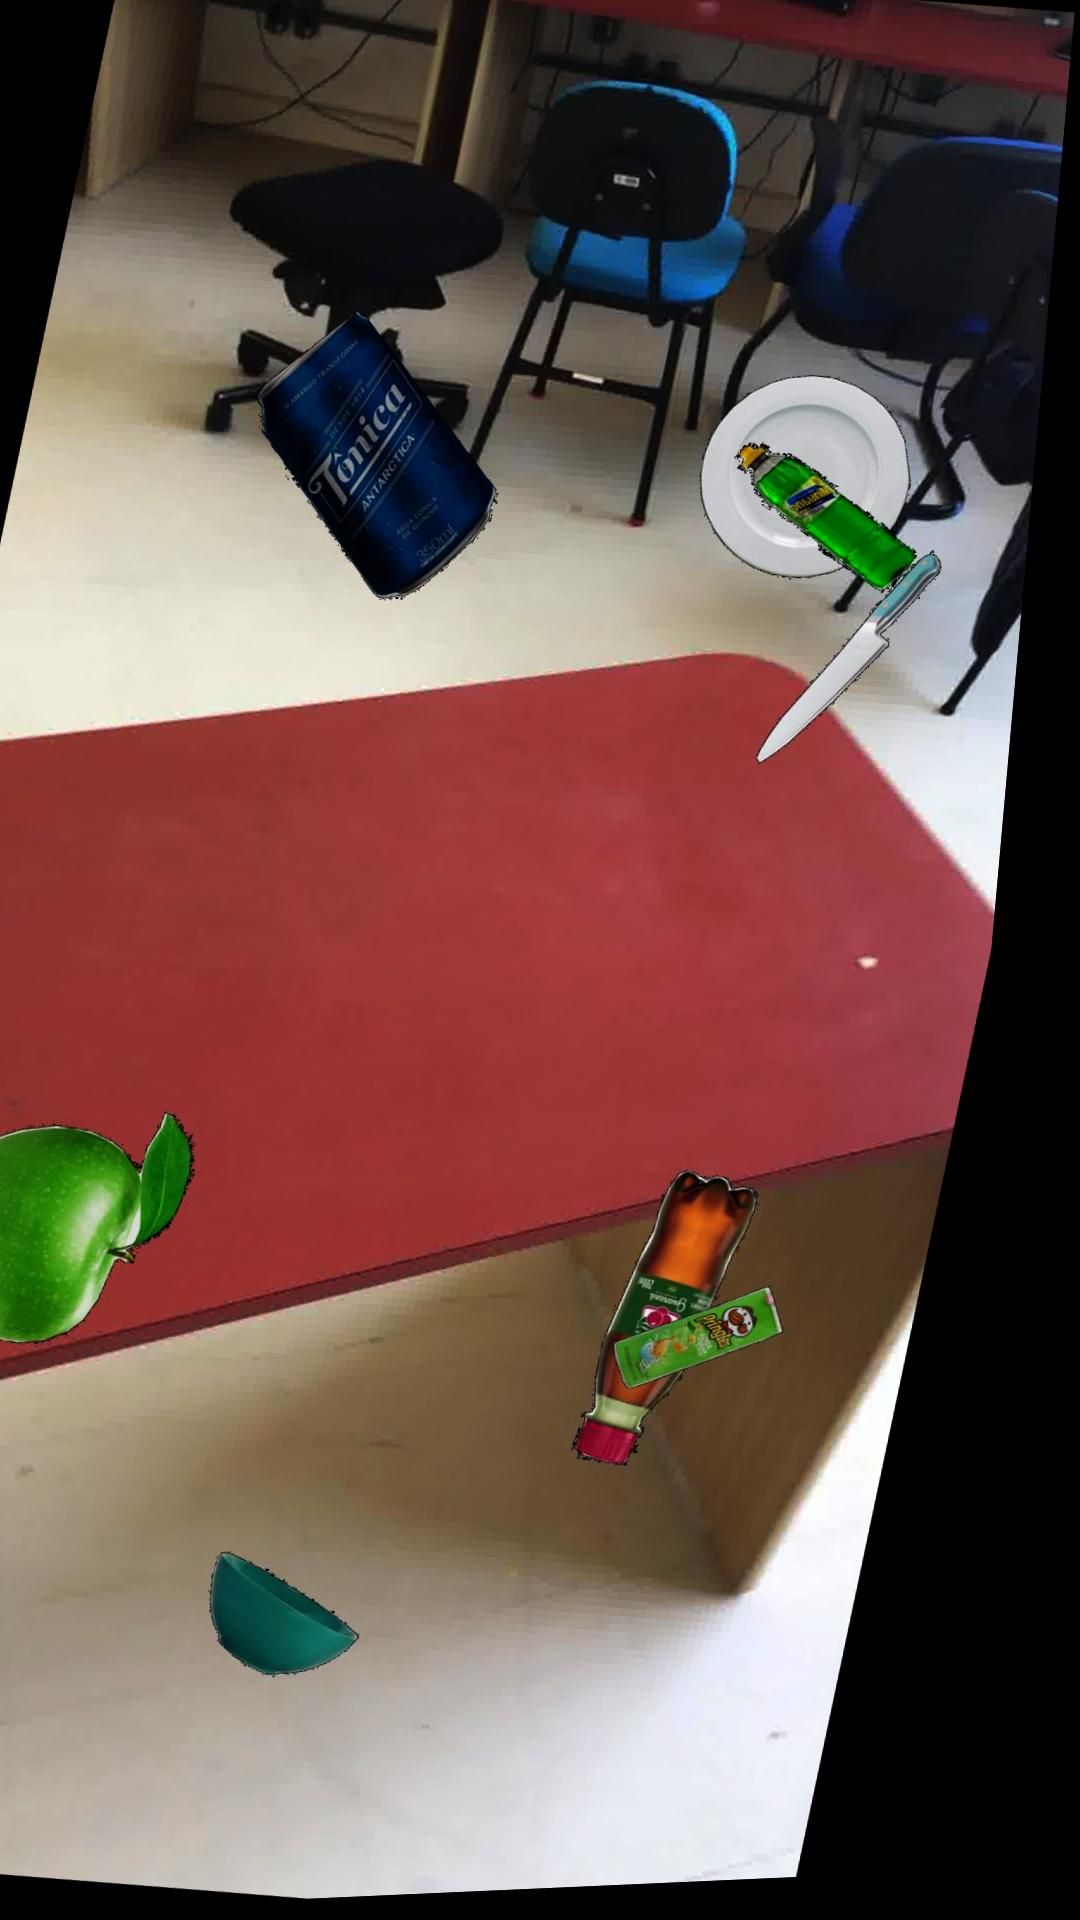bowl: (237, 1552, 388, 1676)
cleaner: (742, 447, 926, 599)
green apple: (0, 1112, 215, 1342)
guarana: (599, 1175, 778, 1469)
knife: (769, 556, 951, 769)
plate: (707, 380, 918, 583)
pringles: (637, 1291, 807, 1393)
tonic: (261, 311, 505, 600)
